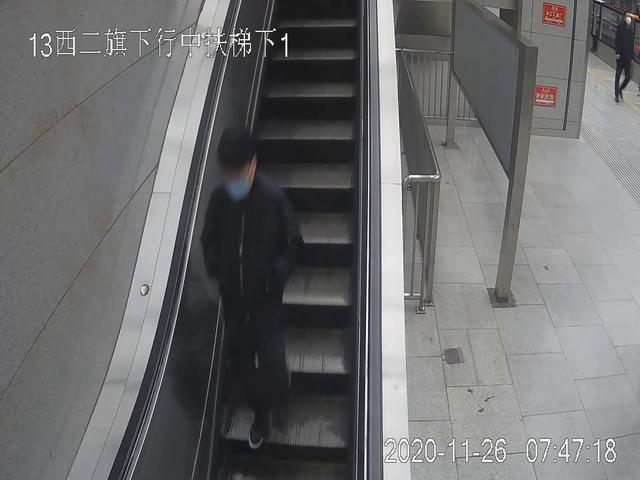person: (203, 128, 311, 451), (612, 9, 637, 105)
